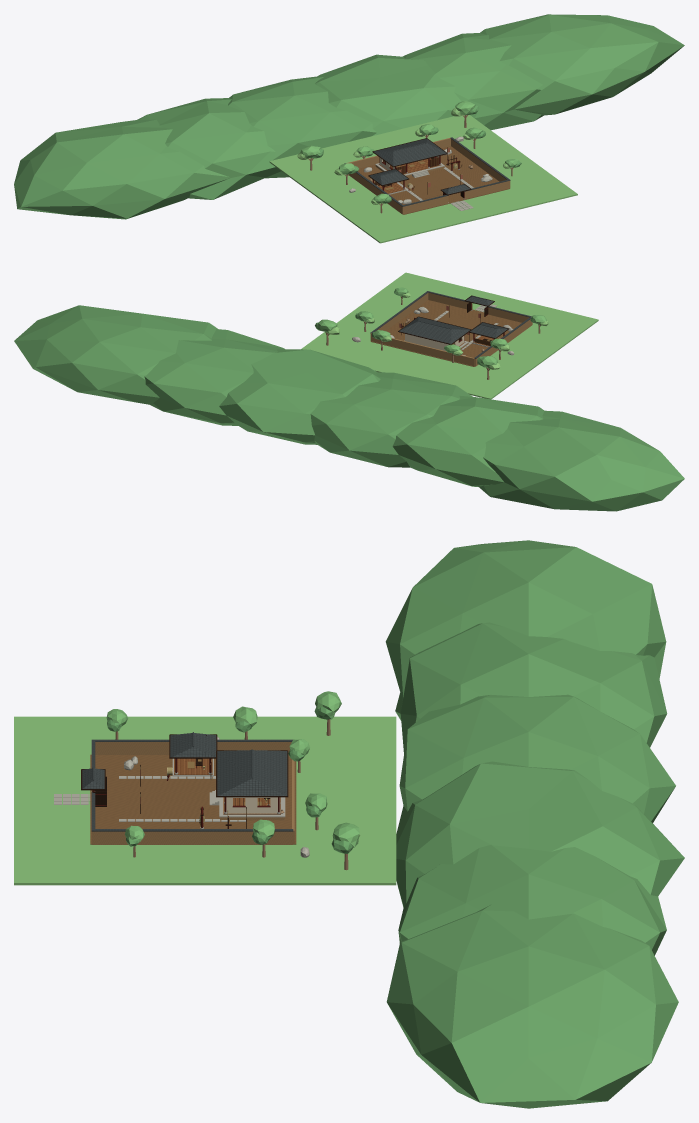
Rendered from suntzu-palace.glb.
3 renders of one model, top to bottom at view 1: azimuth 30°, elevation 25°; view 2: azimuth 150°, elevation 25°; view 3: azimuth 270°, elevation 25°, orthographic. The views are drawn at different scales.
Parts seen in each view (by area): view 1: Garden__Leaf_C, Garden__Grass_Main, Garden__Wu_Rammed, Garden__Wu_Earth, Garden__Leaf_A, Hall__Wu_Tile, Training__Wu_Earth, Garden__Wu_Stone, Garden__Wu_Tile, CommandPavilion__Wu_Tile, Garden__Leaf_B; view 2: Garden__Leaf_C, Garden__Grass_Main, Garden__Wu_Rammed, Garden__Wu_Earth, Garden__Leaf_A, Hall__Wu_Tile, Garden__Wu_Tile, Training__Wu_Earth, Garden__Leaf_B, Hall__Wu_Plas, Garden__Wu_Stone; view 3: Garden__Leaf_C, Garden__Grass_Main, Garden__Wu_Earth, Garden__Wu_Rammed, Training__Wu_Earth, Hall__Wu_Tile, Garden__Leaf_A, Garden__Wu_Tile, Garden__Wu_Stone, CommandPavilion__Wu_Tile.
Boxes of the visible parts, x1=… form: Garden__Leaf_C: x1=14, y1=14, x2=684, y2=219; Garden__Grass_Main: x1=269, y1=115, x2=577, y2=243; Garden__Wu_Rammed: x1=346, y1=138, x2=510, y2=214; Garden__Wu_Earth: x1=358, y1=146, x2=509, y2=214; Garden__Leaf_A: x1=300, y1=100, x2=519, y2=203; Hall__Wu_Tile: x1=374, y1=138, x2=446, y2=166; Training__Wu_Earth: x1=399, y1=170, x2=463, y2=199; Garden__Wu_Stone: x1=349, y1=136, x2=492, y2=210; Garden__Wu_Tile: x1=344, y1=137, x2=510, y2=206; CommandPavilion__Wu_Tile: x1=369, y1=169, x2=408, y2=184; Garden__Leaf_B: x1=297, y1=107, x2=510, y2=204; Garden__Leaf_C: x1=14, y1=290, x2=684, y2=511; Garden__Grass_Main: x1=301, y1=272, x2=598, y2=399; Garden__Wu_Rammed: x1=370, y1=292, x2=532, y2=366; Garden__Wu_Earth: x1=370, y1=300, x2=521, y2=366; Garden__Leaf_A: x1=317, y1=287, x2=546, y2=367; Hall__Wu_Tile: x1=399, y1=317, x2=470, y2=343; Garden__Wu_Tile: x1=370, y1=291, x2=531, y2=358; Training__Wu_Earth: x1=437, y1=314, x2=481, y2=341; Garden__Leaf_B: x1=325, y1=293, x2=548, y2=369; Hall__Wu_Plas: x1=405, y1=334, x2=464, y2=350; Garden__Wu_Stone: x1=352, y1=304, x2=514, y2=355; Garden__Leaf_C: x1=107, y1=540, x2=684, y2=1108; Garden__Grass_Main: x1=14, y1=716, x2=396, y2=885; Garden__Wu_Earth: x1=90, y1=754, x2=296, y2=844; Garden__Wu_Rammed: x1=92, y1=742, x2=294, y2=844; Training__Wu_Earth: x1=128, y1=779, x2=210, y2=818; Hall__Wu_Tile: x1=217, y1=749, x2=287, y2=795; Garden__Leaf_A: x1=106, y1=691, x2=359, y2=847; Garden__Wu_Tile: x1=91, y1=739, x2=293, y2=831; Garden__Wu_Stone: x1=54, y1=737, x2=309, y2=857; CommandPavilion__Wu_Tile: x1=170, y1=732, x2=216, y2=757.
Bounding box in the file's own units: 225 × 22.46 × 114.
22 materials, 8 textured.
